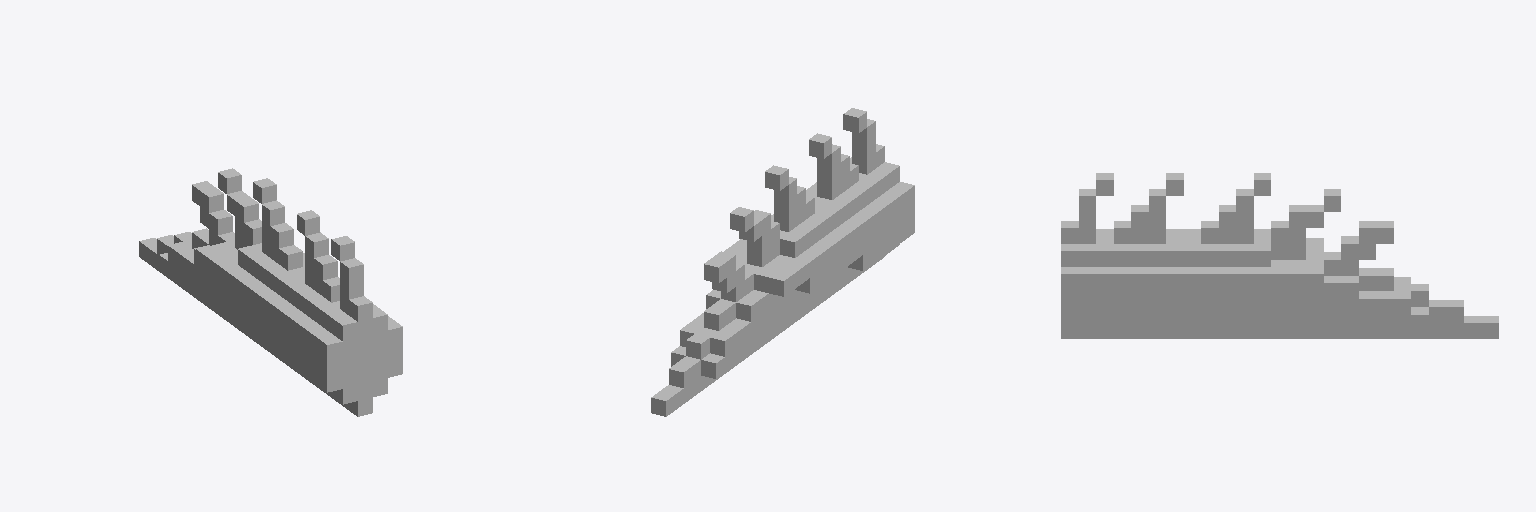
Rendered from LizardMan BOSS tail 4.obj.
3 views of the same model, side by side, from view 1: azimuth 30°, elevation 25°; view 2: azimuth 150°, elevation 25°; view 3: azimuth 270°, elevation 25° (orthographic).
Bounding box in the file's own units: 5 × 10 × 25.